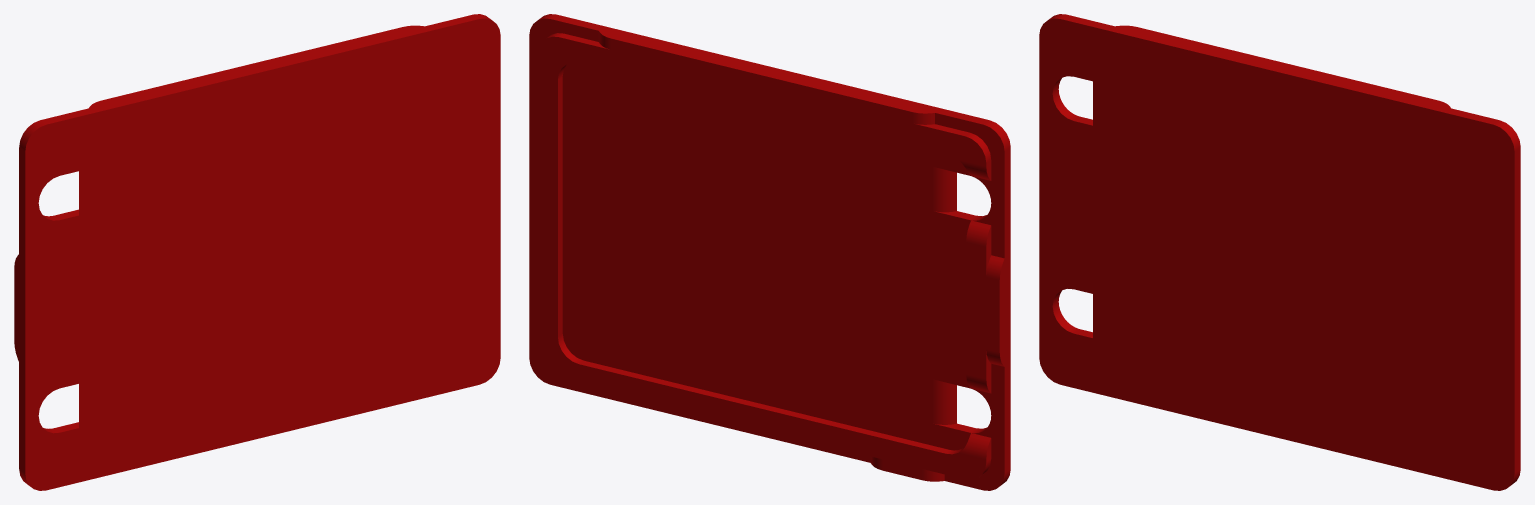
Rendered from XYZ Stage V5_Z Stage Electrical Cover.obj.
3 views of the same model, side by side, from view 1: azimuth 30°, elevation 25°; view 2: azimuth 150°, elevation 25°; view 3: azimuth 330°, elevation 25° (orthographic).
Parts seen in each view (by area): view 1: Solid1:4; view 2: Solid1:4; view 3: Solid1:4.
Part boxes in pixels (left/top/right/bottom): Solid1:4: left=14, top=14, right=500, bottom=490; Solid1:4: left=529, top=14, right=1010, bottom=490; Solid1:4: left=1039, top=14, right=1520, bottom=490.
Bounding box in the file's own units: 56.18 × 41.3 × 2.25.
